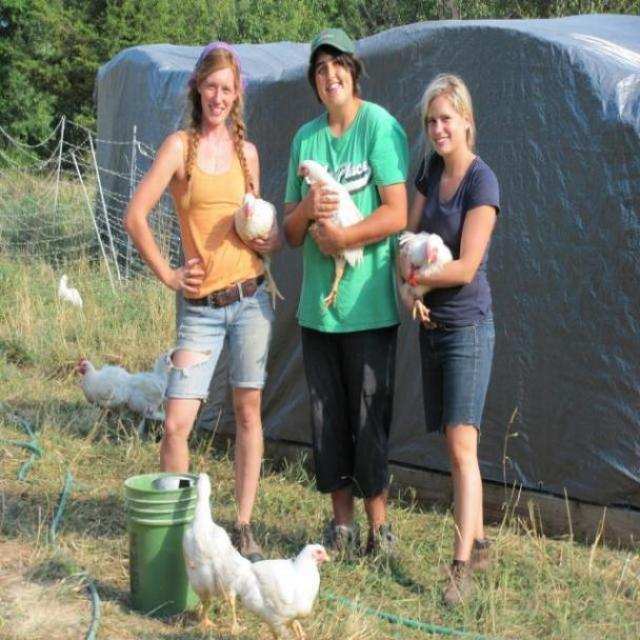Chicken: (181, 462, 244, 633), (297, 162, 366, 313), (221, 545, 327, 640), (234, 195, 285, 312), (398, 231, 454, 318), (74, 356, 132, 427), (127, 353, 170, 427), (58, 277, 84, 310)
